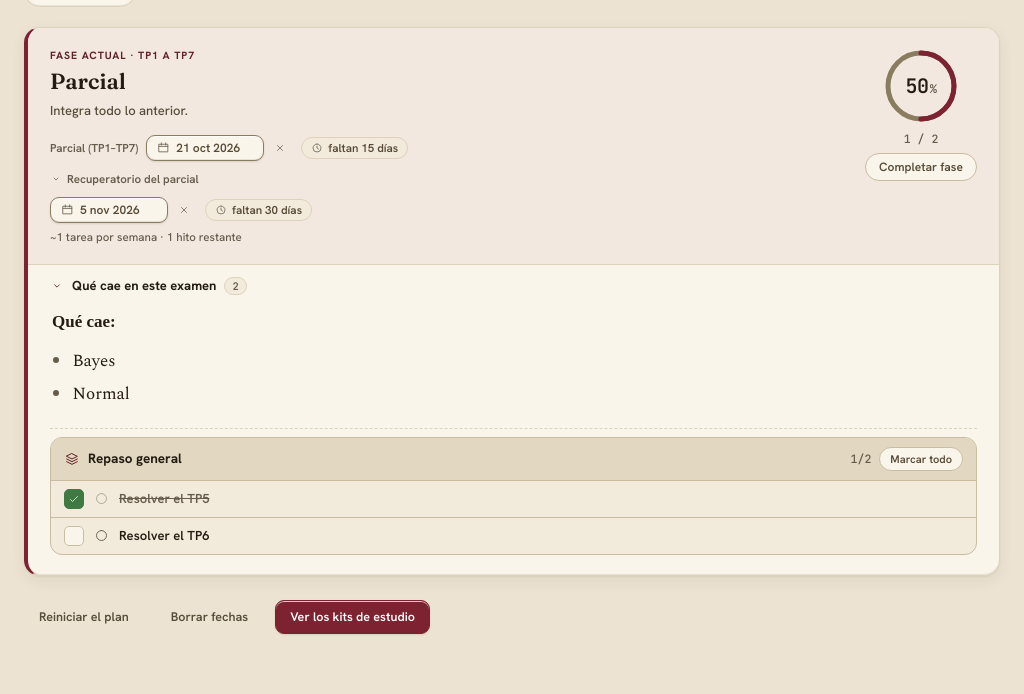
Test case: <PlanView/> · fechas de las instancias › «Borrar fechas» pide confirmación y las saca todas
This screenshot has width=1024, height=694.
(page scrolled)
What coordinates should you click on to do the following:
click the button "Borrar fechas"
I would click on:
 (209, 617)
Its box is top-left (156, 600), bottom-right (263, 634).
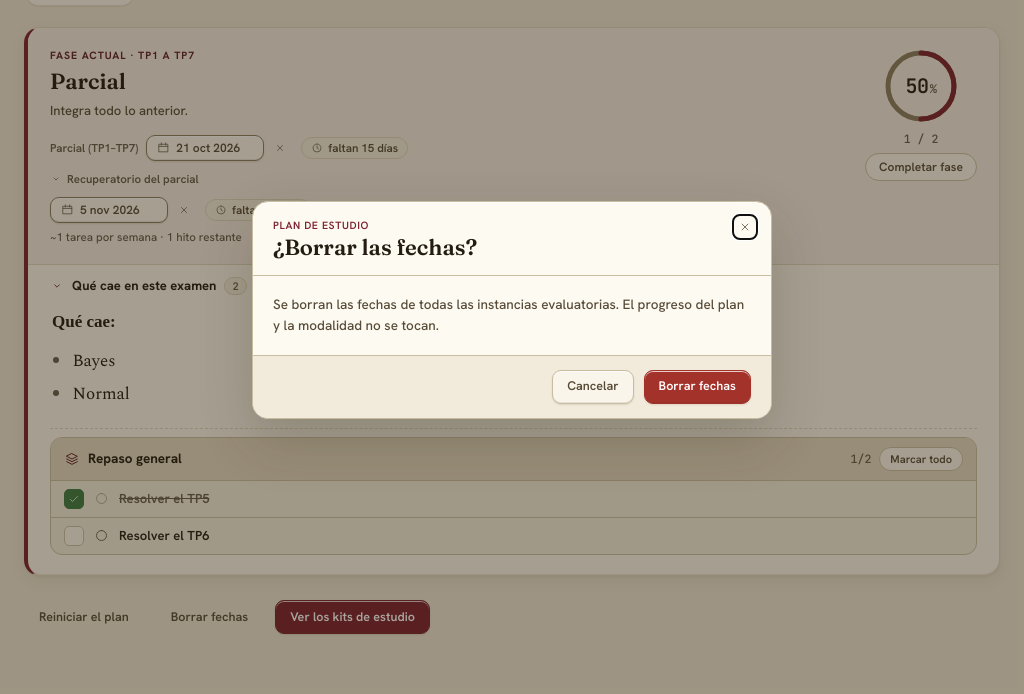
Now the heading "¿Borrar las fechas?" is shown, box top-left (273, 233), bottom-right (477, 261)
What coordinates should you click on to do the following:
click the button "Cancelar"
I would click on:
 (593, 387)
Its box is top-left (552, 370), bottom-right (634, 404).
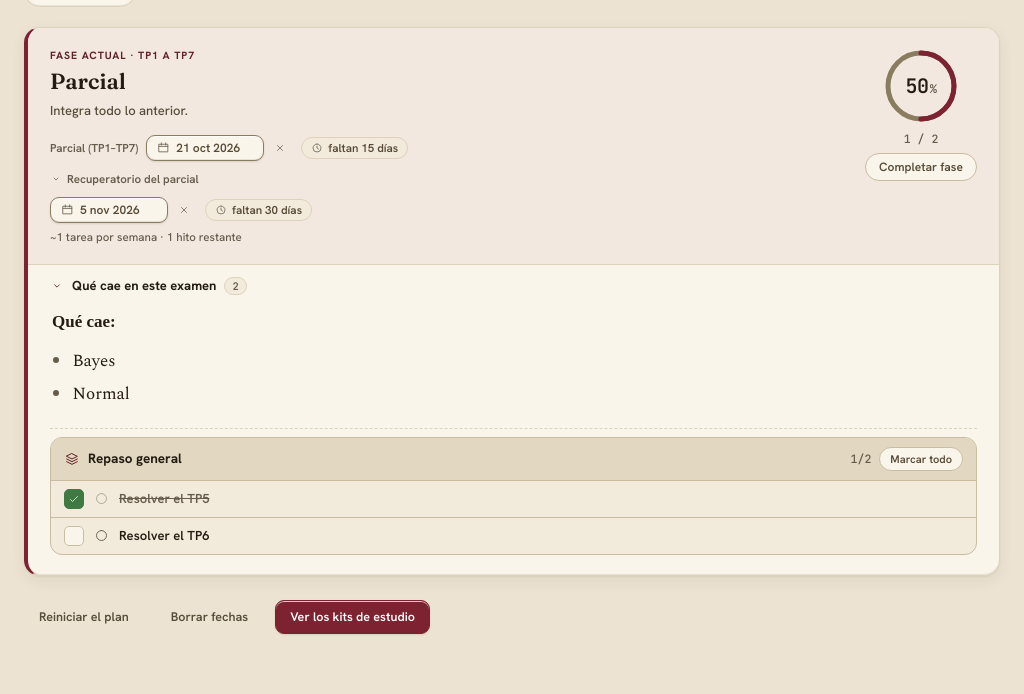
Now the dialog is gone
What coordinates should you click on to do the following:
click the button "Borrar fechas"
I would click on:
 (209, 617)
Its box is top-left (156, 600), bottom-right (263, 634).
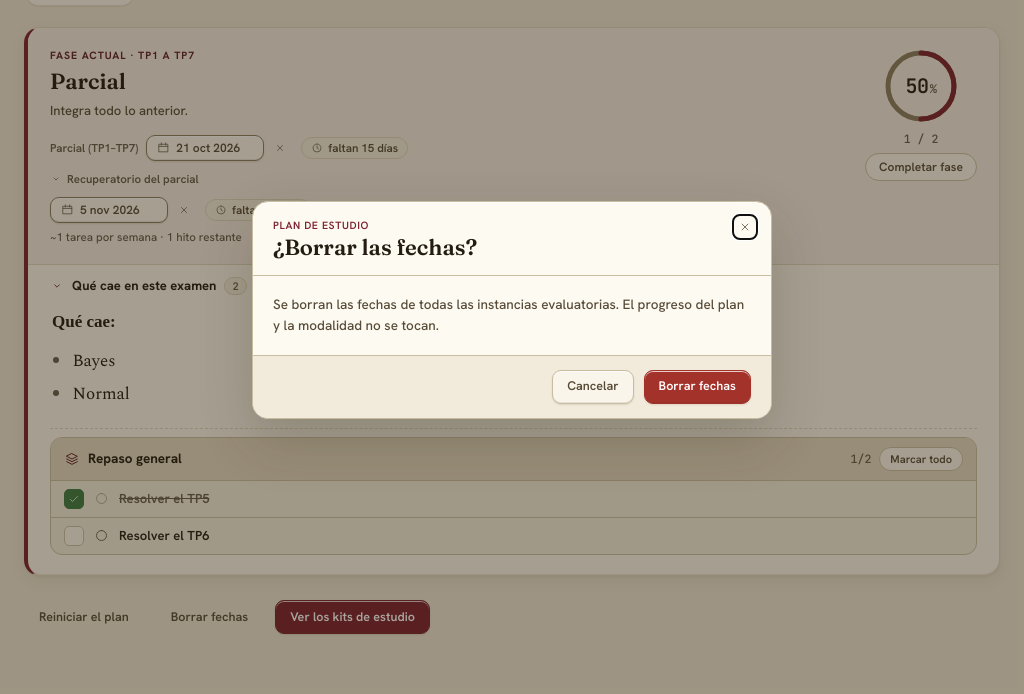
What coordinates should you click on to do the following:
click the button "Borrar fechas"
I would click on:
 (697, 387)
Its box is top-left (644, 370), bottom-right (751, 404).
(page scrolled)
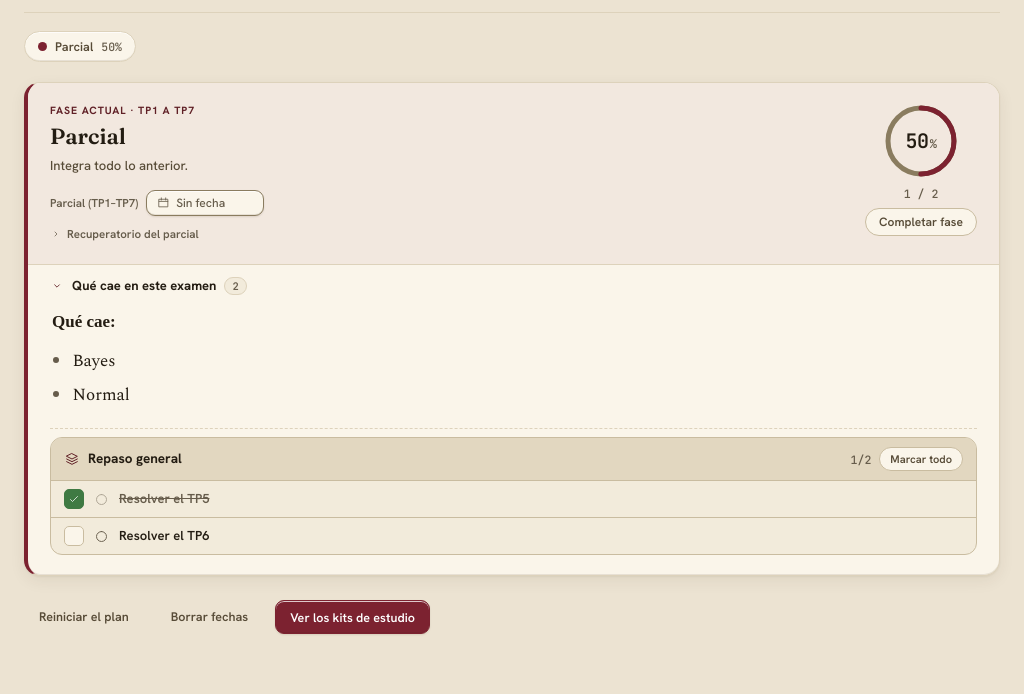
Now the text "faltan 15 días" is gone
